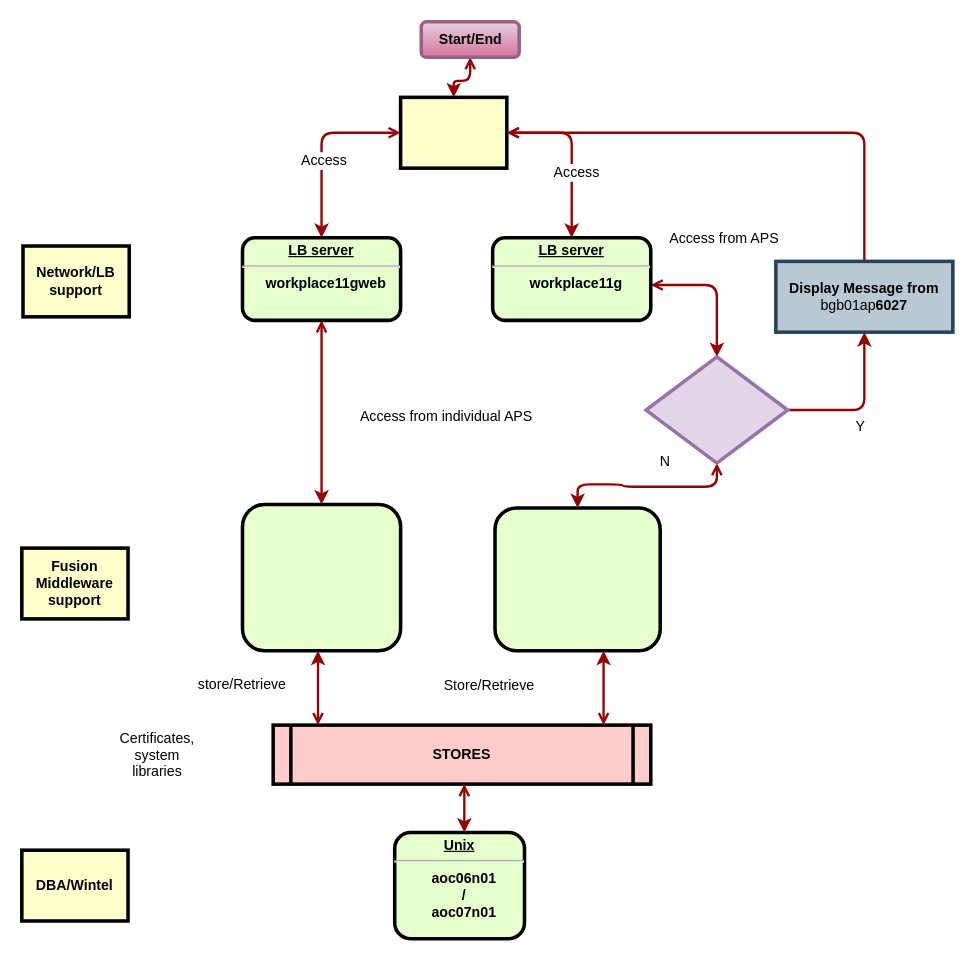
This 975x961 diagram has some shape labels left out. The box of each missing label's shape, as (x1, y1, x2, y2) in pixels:
Application Users: (398, 95, 508, 169)
Maintenance ?: (644, 355, 789, 464)
STWT / Discoverer bgb01ap6024 bgb01ap1135 bgb01ap1136 bgb01ap1137 bgb01ap1138: (493, 506, 661, 652)
WEBKIOSK bgb01ap6024 bgb01ap1135 bgb01ap1136 bgb01ap1137 bgb01ap1138: (240, 502, 402, 652)
